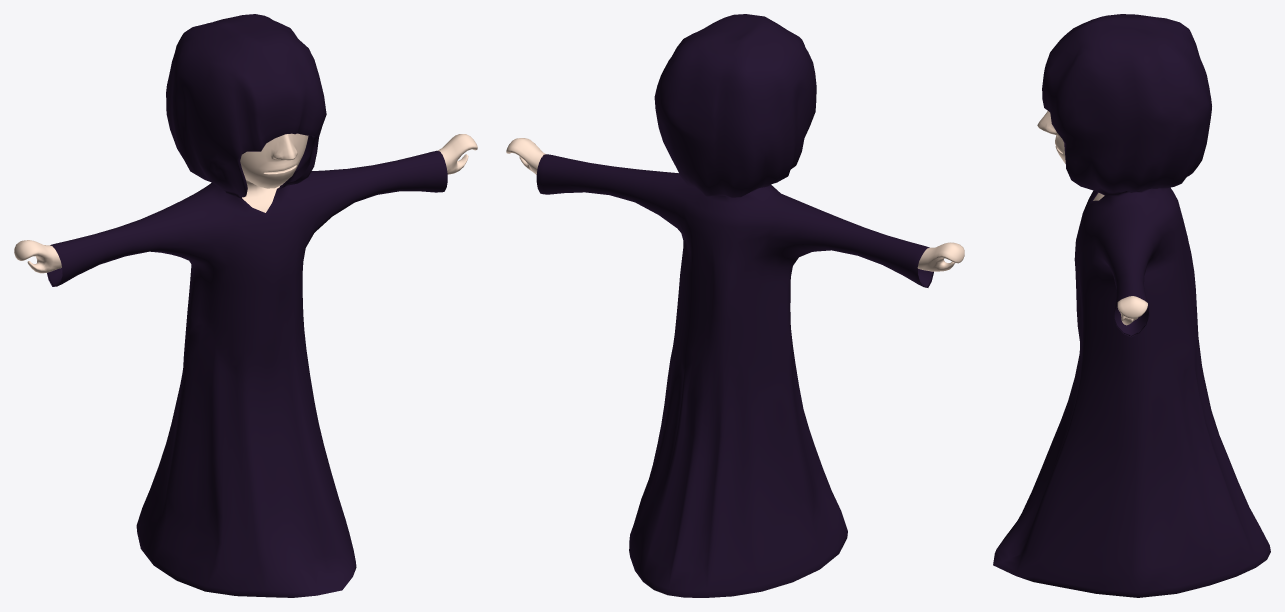
File: priest.fbx
3 views of the same model, side by side, from view 1: azimuth 30°, elevation 25°; view 2: azimuth 150°, elevation 25°; view 3: azimuth 270°, elevation 25° (orthographic). The views are drawn at different scales.
Visible parts, largest first — view 1: hoody2; view 2: hoody2; view 3: hoody2.
Part boxes in pixels (x1,y1,x2,y2): hoody2: (14,14,477,597); hoody2: (506,14,964,597); hoody2: (993,14,1270,597).
Bounding box in the file's own units: 1.09 × 1.19 × 0.5695.
Materials: 1 (1 with a texture image).
